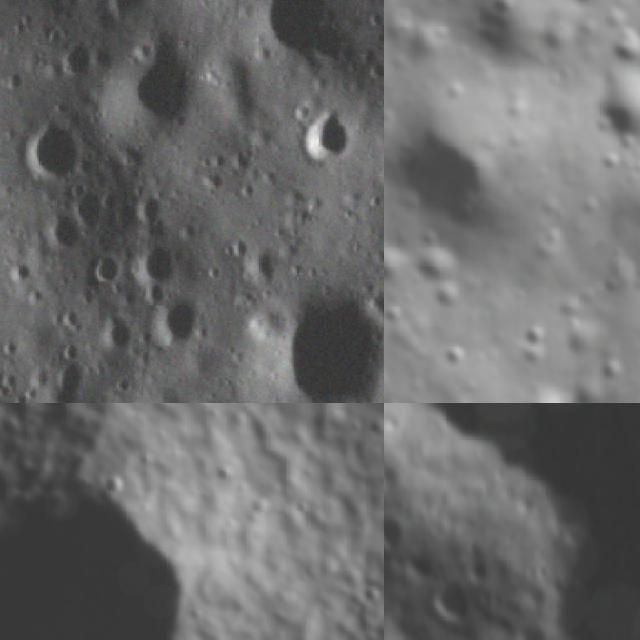crater: (384, 403, 640, 640), (0, 443, 239, 640), (384, 108, 521, 251), (270, 284, 384, 403), (114, 24, 206, 139), (17, 109, 89, 188), (289, 101, 362, 172), (585, 56, 640, 142), (142, 286, 207, 356), (423, 568, 485, 636), (36, 207, 92, 263), (39, 343, 90, 403), (129, 231, 185, 285), (66, 184, 119, 236), (92, 304, 145, 356), (49, 33, 100, 84), (78, 245, 127, 298), (422, 266, 471, 318), (504, 374, 587, 403), (384, 507, 419, 559), (594, 347, 634, 386), (462, 547, 497, 589), (391, 584, 425, 626), (528, 552, 563, 589), (519, 317, 552, 353), (515, 619, 558, 640), (0, 350, 17, 403), (441, 338, 469, 369), (384, 293, 405, 327), (487, 0, 522, 19), (174, 393, 211, 403)
